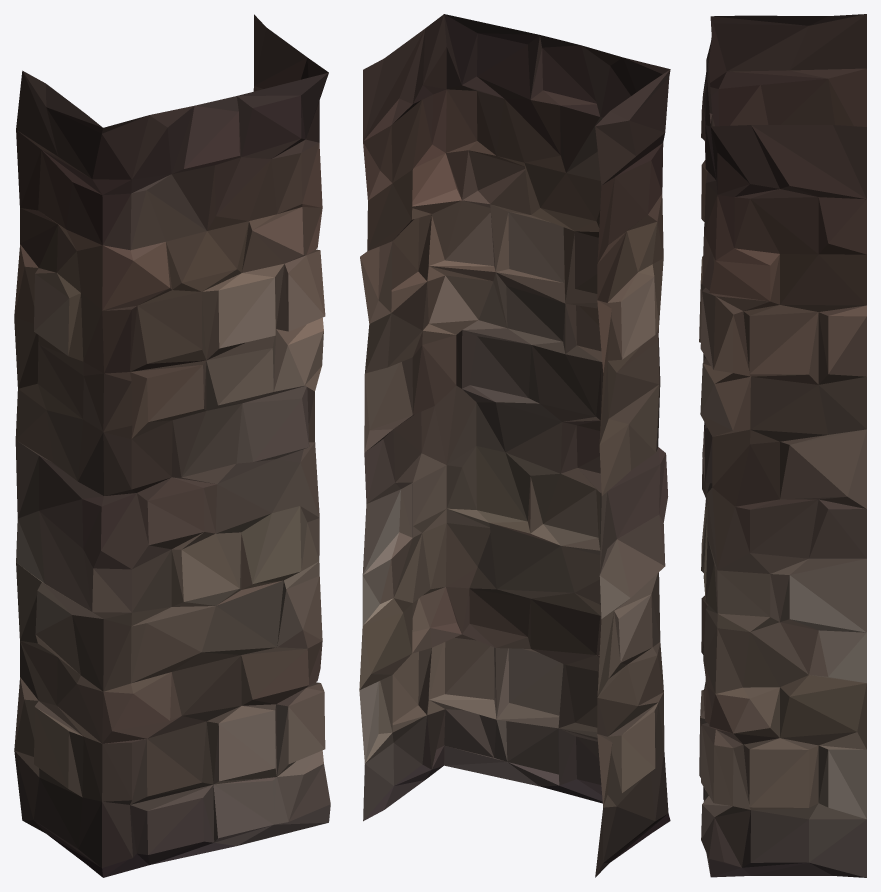
Rendered from Prop_FirePlaceChimney.fbx.
3 views of the same model, side by side, from view 1: azimuth 30°, elevation 25°; view 2: azimuth 150°, elevation 25°; view 3: azimuth 270°, elevation 25° (orthographic).
Parts seen in each view (by area): view 1: Prop_FirePlaceChimney; view 2: Prop_FirePlaceChimney; view 3: Prop_FirePlaceChimney.
Part boxes in pixels (x1=…): Prop_FirePlaceChimney: x1=14, y1=14, x2=330, y2=877; Prop_FirePlaceChimney: x1=359, y1=14, x2=670, y2=877; Prop_FirePlaceChimney: x1=699, y1=14, x2=866, y2=877.
Bounding box in the file's own units: 137 × 403 × 81.45.
